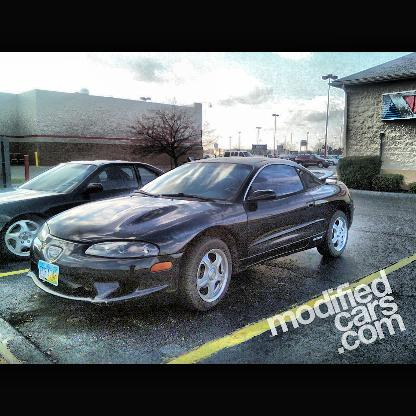Eagle Talon Hatchback 1998: (32, 162, 355, 302)
